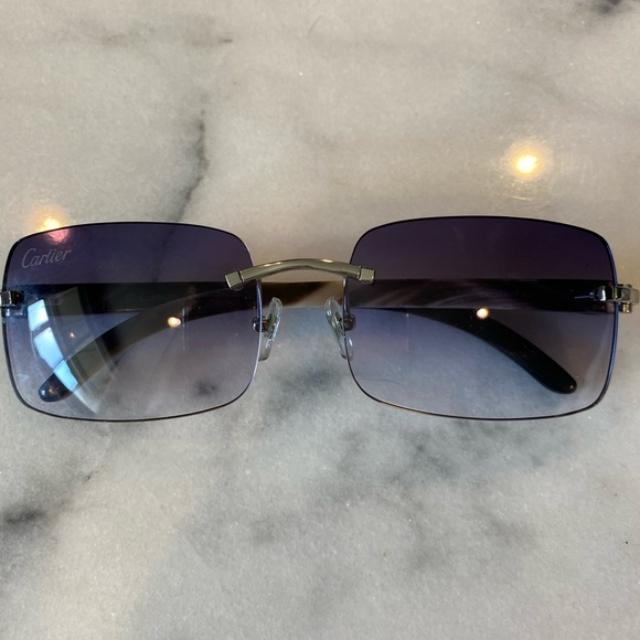glasses: (1, 214, 640, 420)
